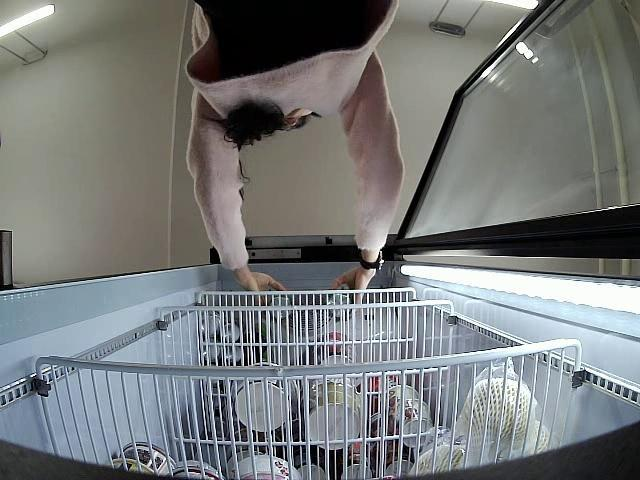18_trevi: (324, 290, 351, 320), (263, 295, 290, 320)
